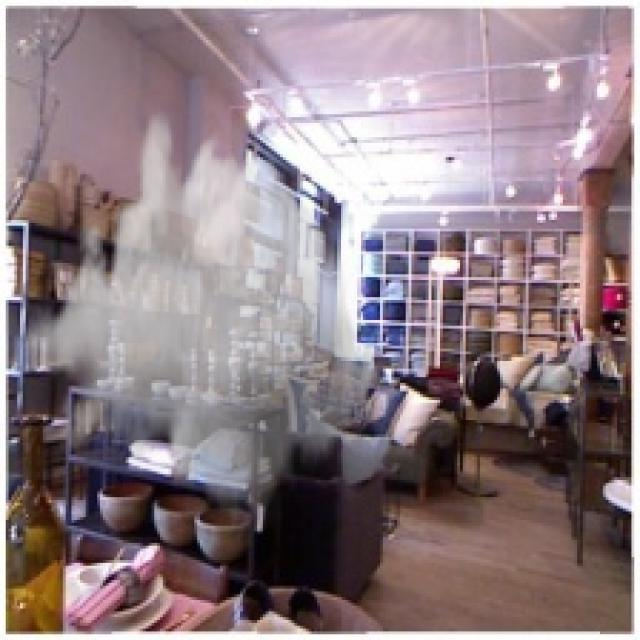Smoke: (23, 108, 383, 534)
